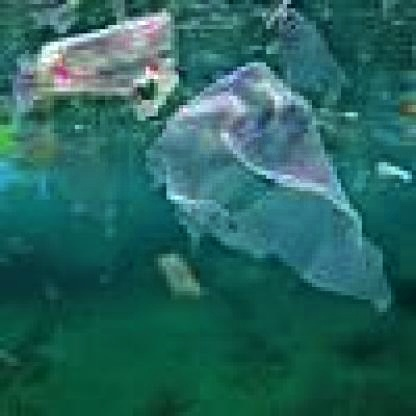pbag: (146, 58, 391, 324), (4, 4, 183, 129)
